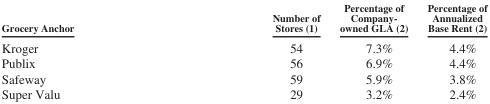table: (0, 0, 486, 101)
table column: (0, 0, 172, 101), (172, 0, 329, 101), (329, 0, 416, 101), (416, 0, 486, 101)
table column header: (0, 0, 486, 36)
table row: (0, 0, 486, 36), (0, 36, 486, 55), (0, 70, 486, 86), (0, 55, 486, 70), (0, 86, 486, 101)
